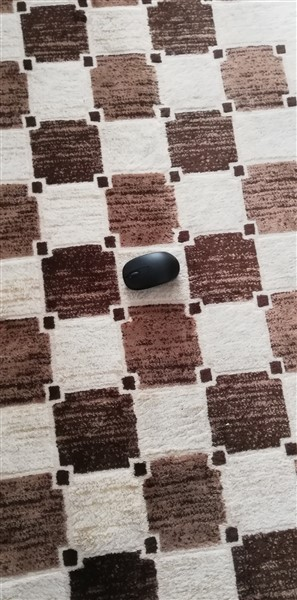mouse: (118, 252, 187, 291)
